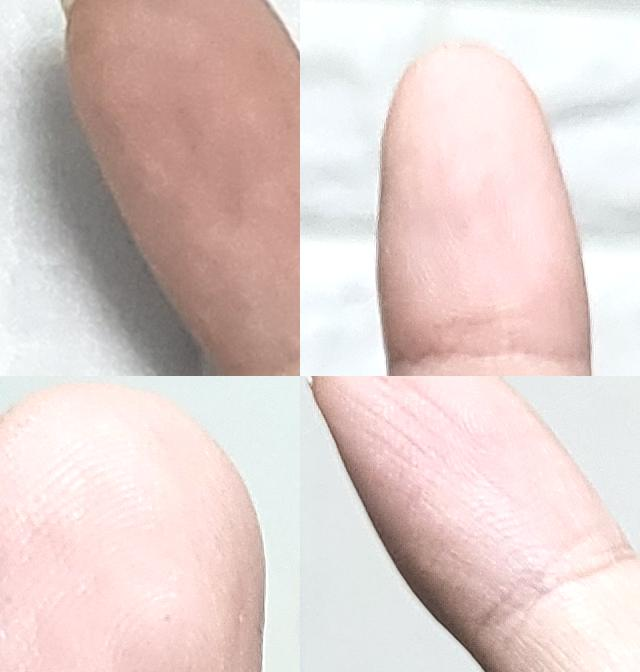Fingerprints: (65, 0, 300, 376), (0, 382, 266, 672), (311, 376, 619, 614), (380, 45, 590, 363)
